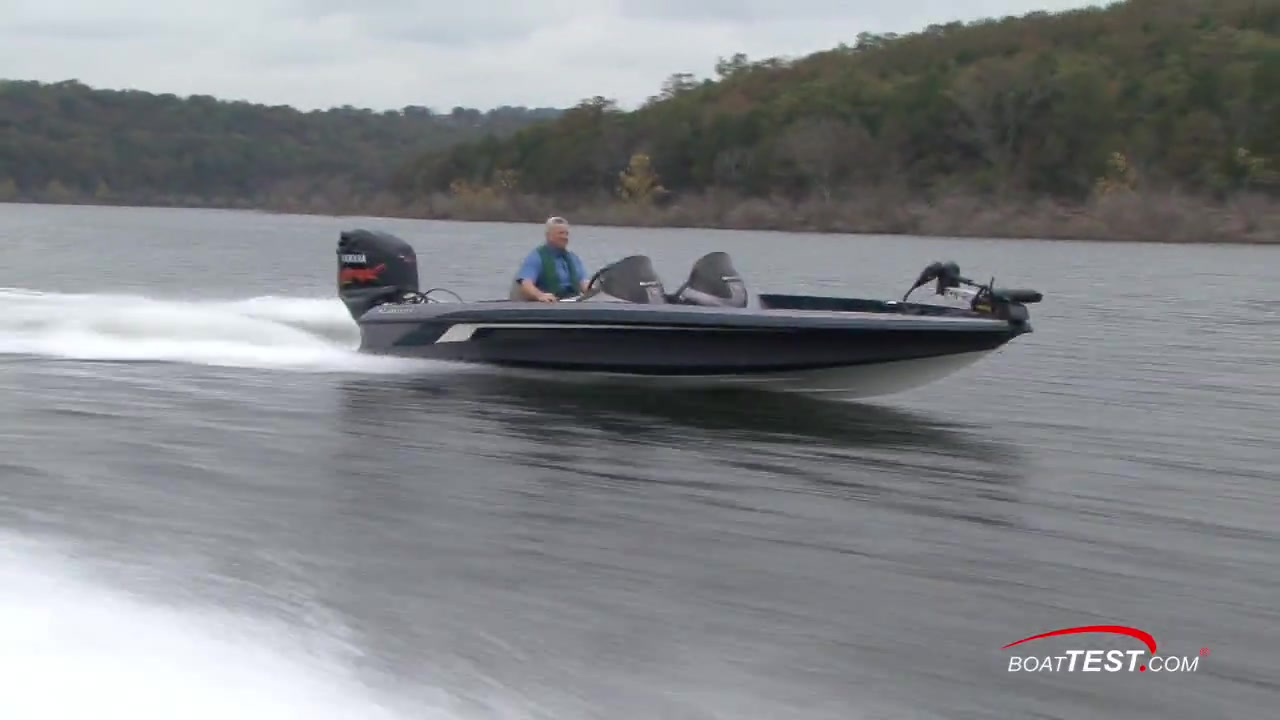boat: (338, 223, 1043, 392)
